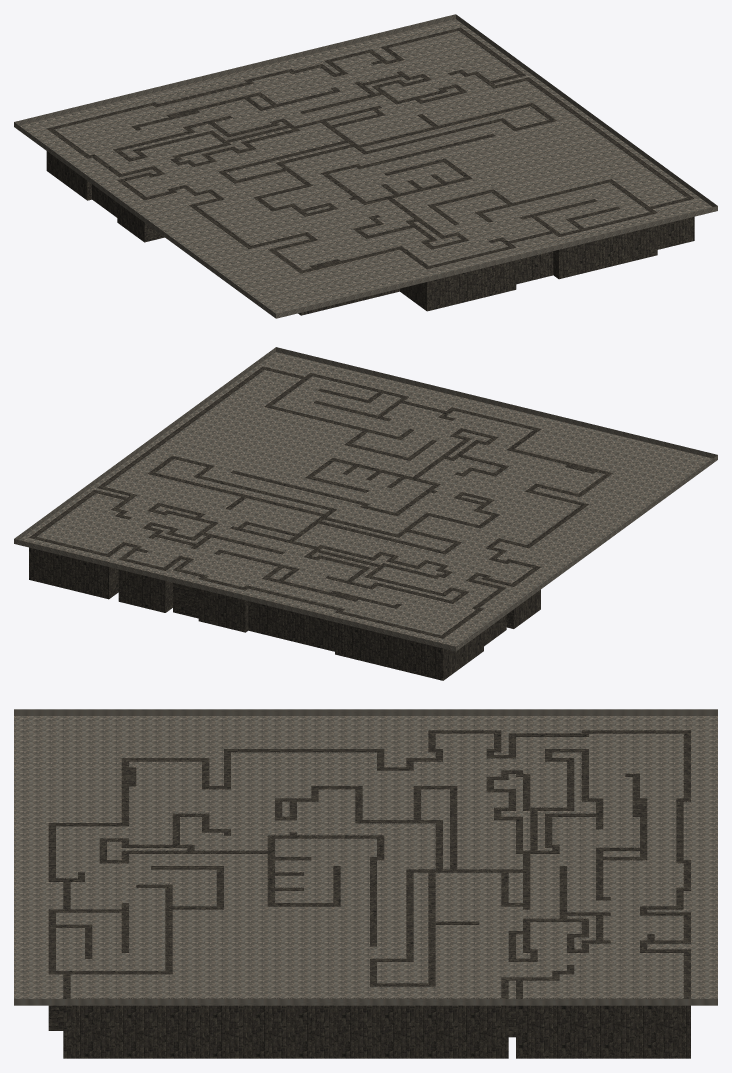
Rendered from map.fbx.
3 views of the same model, one above another, from view 1: azimuth 30°, elevation 25°; view 2: azimuth 150°, elevation 25°; view 3: azimuth 270°, elevation 25° (orthographic). The views are drawn at different scales.
Parts seen in each view (by area): view 1: Plafond, walls; view 2: Plafond, walls; view 3: Plafond, walls.
Part boxes in pixels (x1=…): Plafond: x1=14, y1=14, x2=717, y2=318; walls: x1=46, y1=27, x2=694, y2=315; Plafond: x1=14, y1=347, x2=717, y2=651; walls: x1=29, y1=366, x2=612, y2=680; Plafond: x1=14, y1=709, x2=717, y2=1005; walls: x1=48, y1=730, x2=690, y2=1058.
Size of the model in its own units: 5095 by 523 by 5234.
